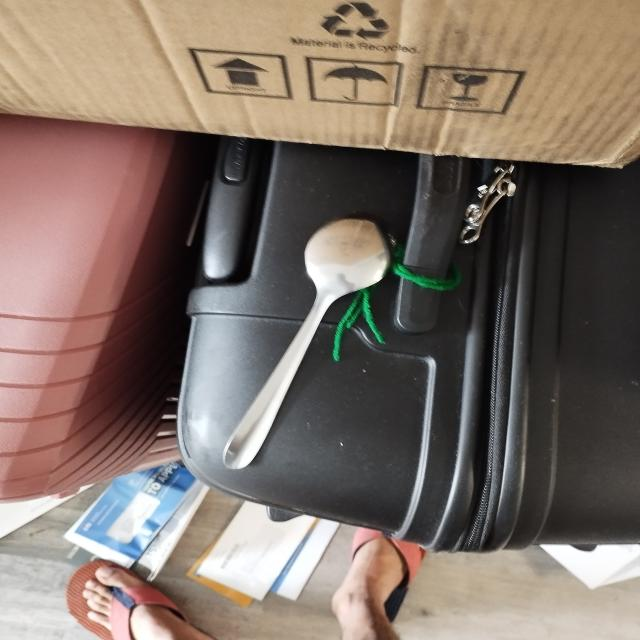Spoon: (187, 215, 409, 477)
